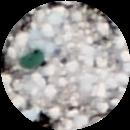Basil: (22, 49, 42, 70)
